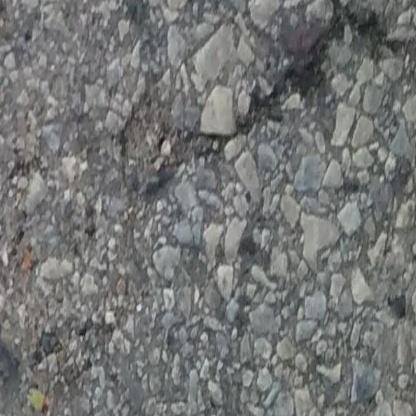Cracks: (125, 0, 416, 192)
